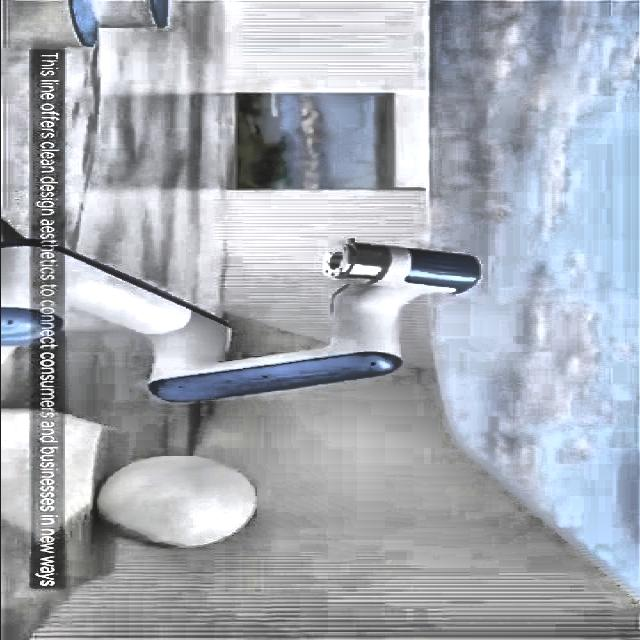robot: (0, 226, 488, 408)
